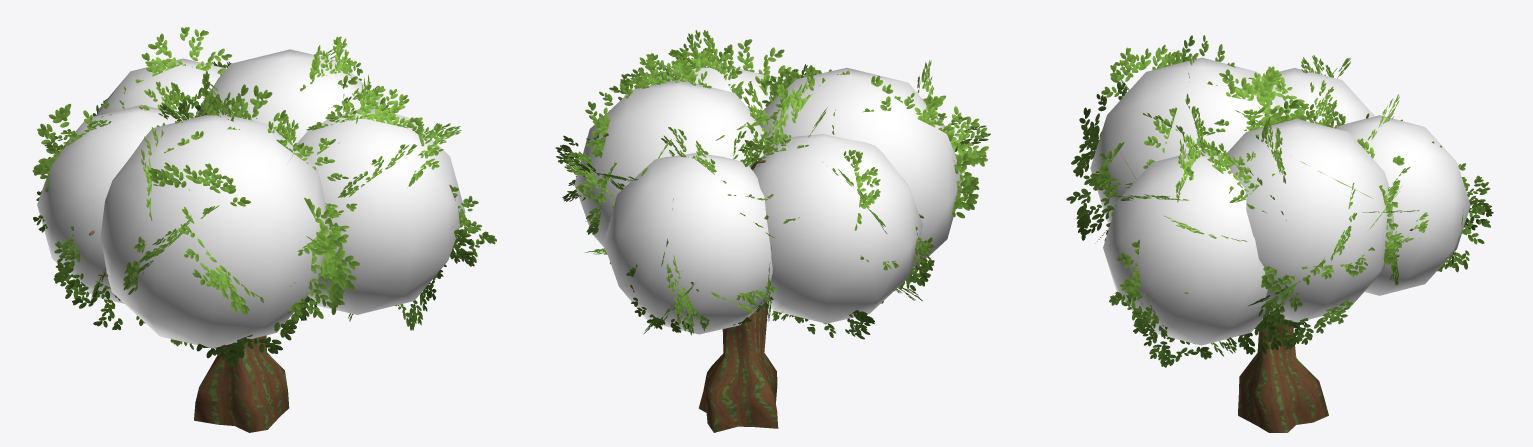
The model's file is grown_wild1.gltf.
The picture shows the model from 3 angles, left to right: view 1: azimuth 30°, elevation 25°; view 2: azimuth 150°, elevation 25°; view 3: azimuth 270°, elevation 25°; orthographic projection. The views are drawn at different scales.
Visible parts, largest first — view 1: grown_wild1_shadow_LOD0, grown_wild1_leaves_LOD0, grown_wild1_trunk_LOD0; view 2: grown_wild1_shadow_LOD0, grown_wild1_leaves_LOD0, grown_wild1_trunk_LOD0; view 3: grown_wild1_shadow_LOD0, grown_wild1_leaves_LOD0, grown_wild1_trunk_LOD0.
Boxes of the visible parts, x1,y1,x2,y2 form: grown_wild1_shadow_LOD0: [37, 49, 465, 348]; grown_wild1_leaves_LOD0: [32, 27, 496, 365]; grown_wild1_trunk_LOD0: [89, 109, 289, 432]; grown_wild1_shadow_LOD0: [574, 61, 963, 334]; grown_wild1_leaves_LOD0: [555, 30, 990, 339]; grown_wild1_trunk_LOD0: [698, 108, 927, 432]; grown_wild1_shadow_LOD0: [1090, 57, 1470, 345]; grown_wild1_leaves_LOD0: [1066, 35, 1493, 367]; grown_wild1_trunk_LOD0: [1238, 118, 1413, 432].
Size of what is drawn, in the model's own units: 11.32 by 10.19 by 12.45.
Materials: 3 (2 with a texture image).
